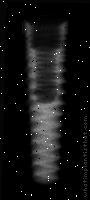Implant Direct: (19, 16, 70, 188)
